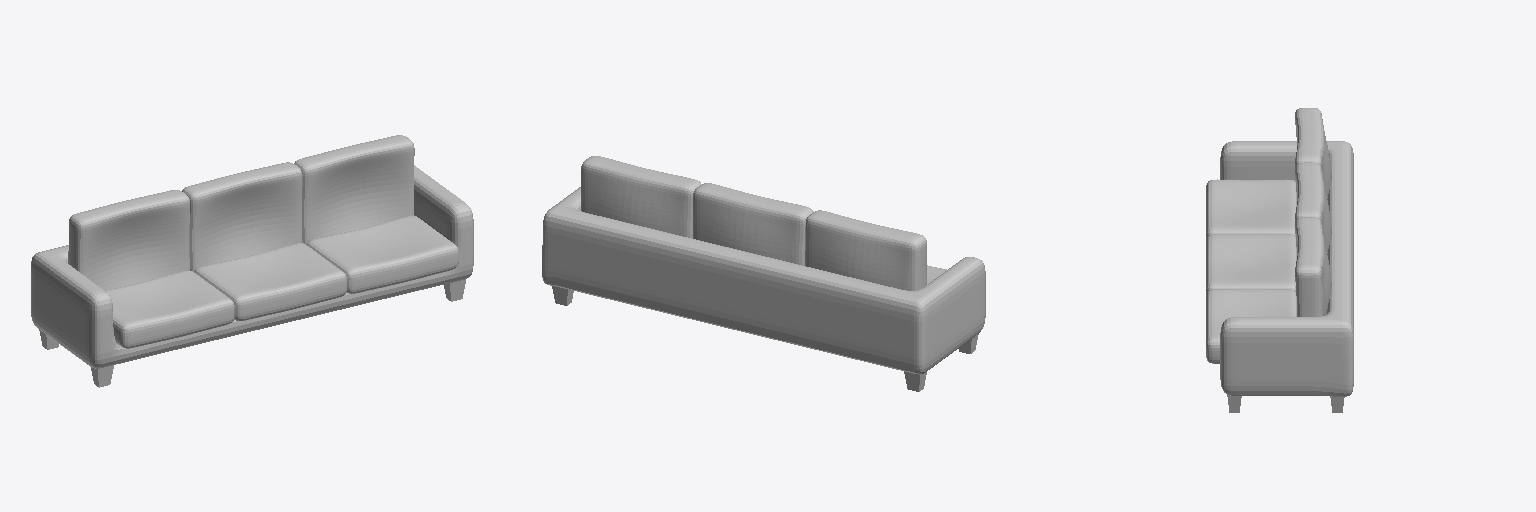
The model's file is couch.obj.
3 views of the same model, side by side, from view 1: azimuth 30°, elevation 25°; view 2: azimuth 150°, elevation 25°; view 3: azimuth 270°, elevation 25° (orthographic).
Parts seen in each view (by area): view 1: Coucjh, Cube.016, Cube.015, Cube.008, Cube.014, Cube.005, Cube.011; view 2: Coucjh, Cube.016, Cube.015, Cube.008; view 3: Coucjh, Cube.014, Cube.011, Cube.005, Cube.008, Cube.016, Cube.015.
Boxes of the visible parts, x1=… form: Coucjh: x1=31, y1=165, x2=473, y2=368; Cube.016: x1=68, y1=190, x2=189, y2=289; Cube.015: x1=182, y1=162, x2=302, y2=271; Cube.008: x1=294, y1=135, x2=414, y2=243; Cube.014: x1=194, y1=243, x2=346, y2=320; Cube.005: x1=306, y1=216, x2=458, y2=293; Cube.011: x1=105, y1=270, x2=234, y2=348; Coucjh: x1=542, y1=187, x2=985, y2=374; Cube.016: x1=805, y1=210, x2=926, y2=290; Cube.015: x1=693, y1=183, x2=813, y2=265; Cube.008: x1=581, y1=156, x2=701, y2=238; Coucjh: x1=1220, y1=141, x2=1353, y2=396; Cube.014: x1=1206, y1=234, x2=1296, y2=294; Cube.011: x1=1206, y1=179, x2=1296, y2=239; Cube.005: x1=1206, y1=289, x2=1296, y2=363; Cube.008: x1=1295, y1=217, x2=1331, y2=316; Cube.016: x1=1295, y1=108, x2=1331, y2=198; Cube.015: x1=1295, y1=162, x2=1331, y2=253.
Size of the model in its own units: 6.44 by 2.21 by 2.16.